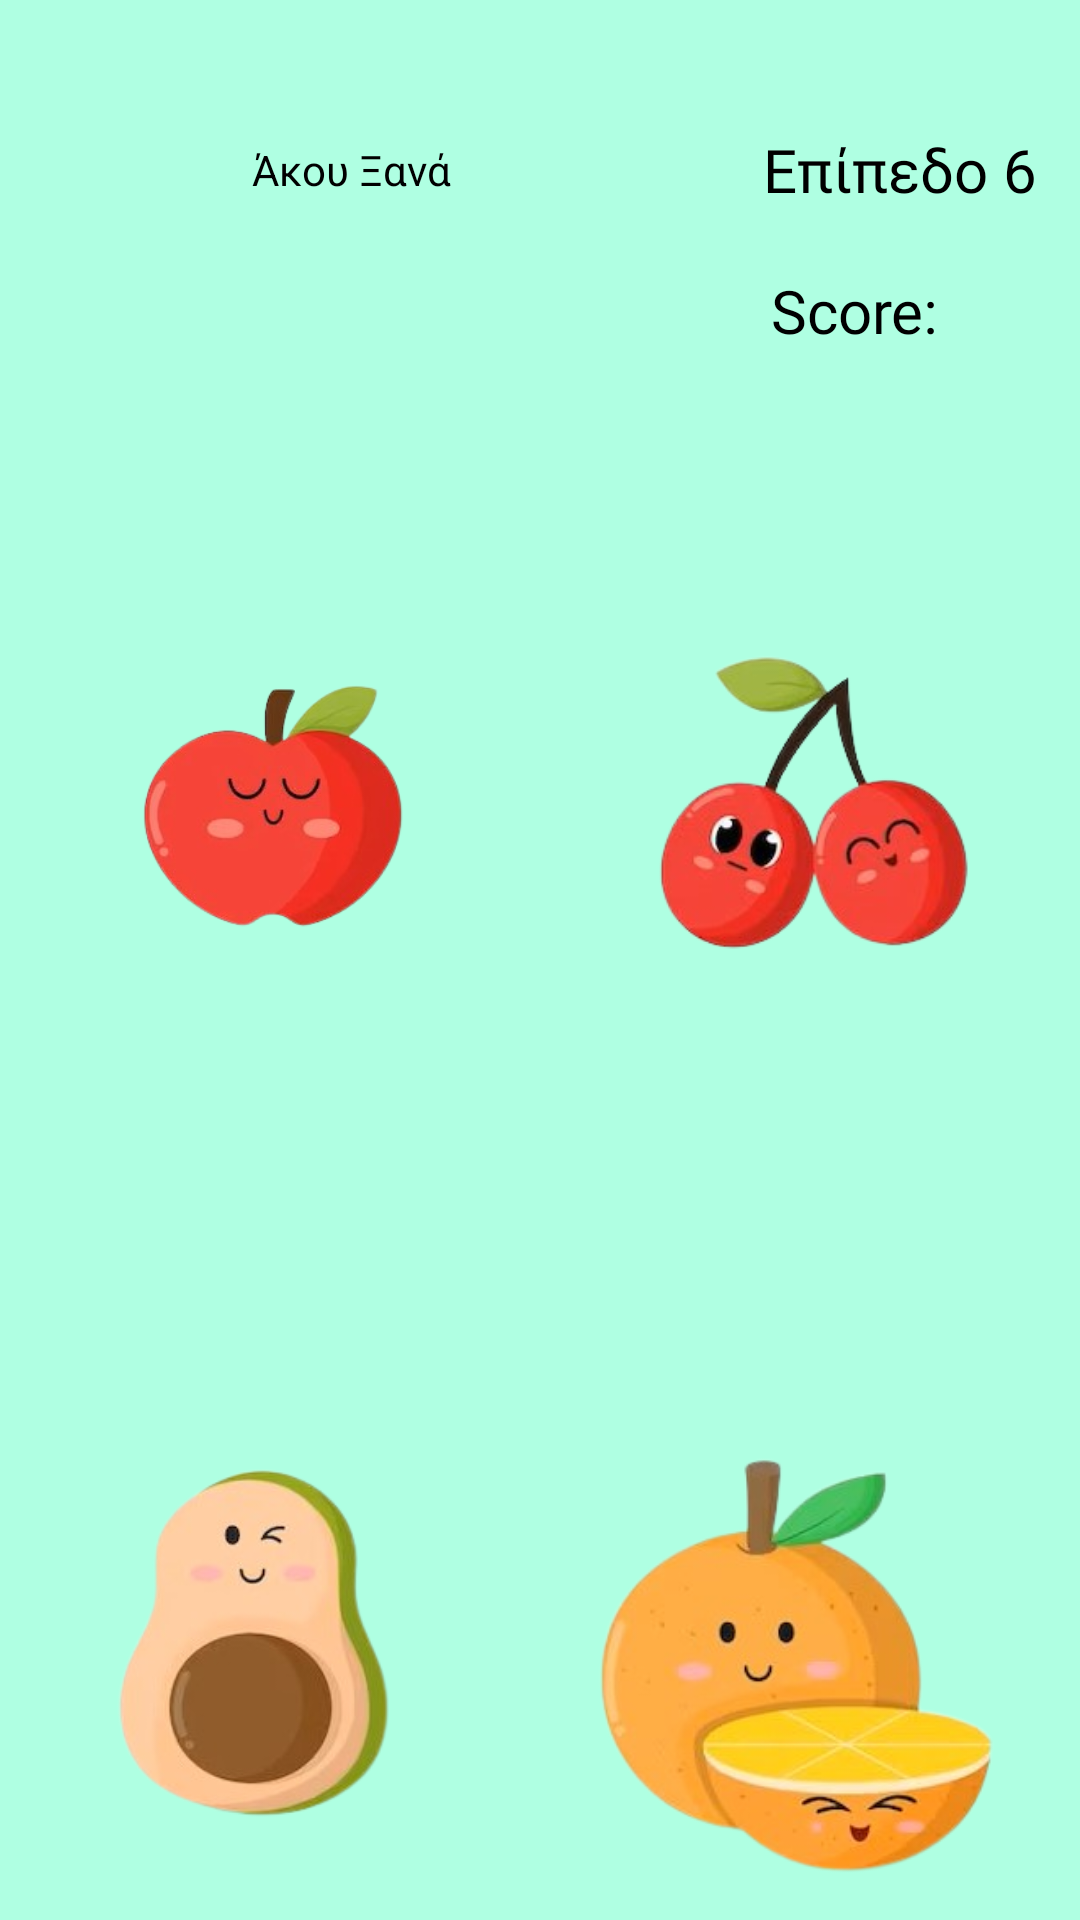

Where icons sit on this 1080px x 1920px app screen, as (x1, y1, x2, y2):
apple: (144, 686, 402, 926)
avokado: (120, 1470, 388, 1815)
kerasi: (661, 657, 968, 948)
